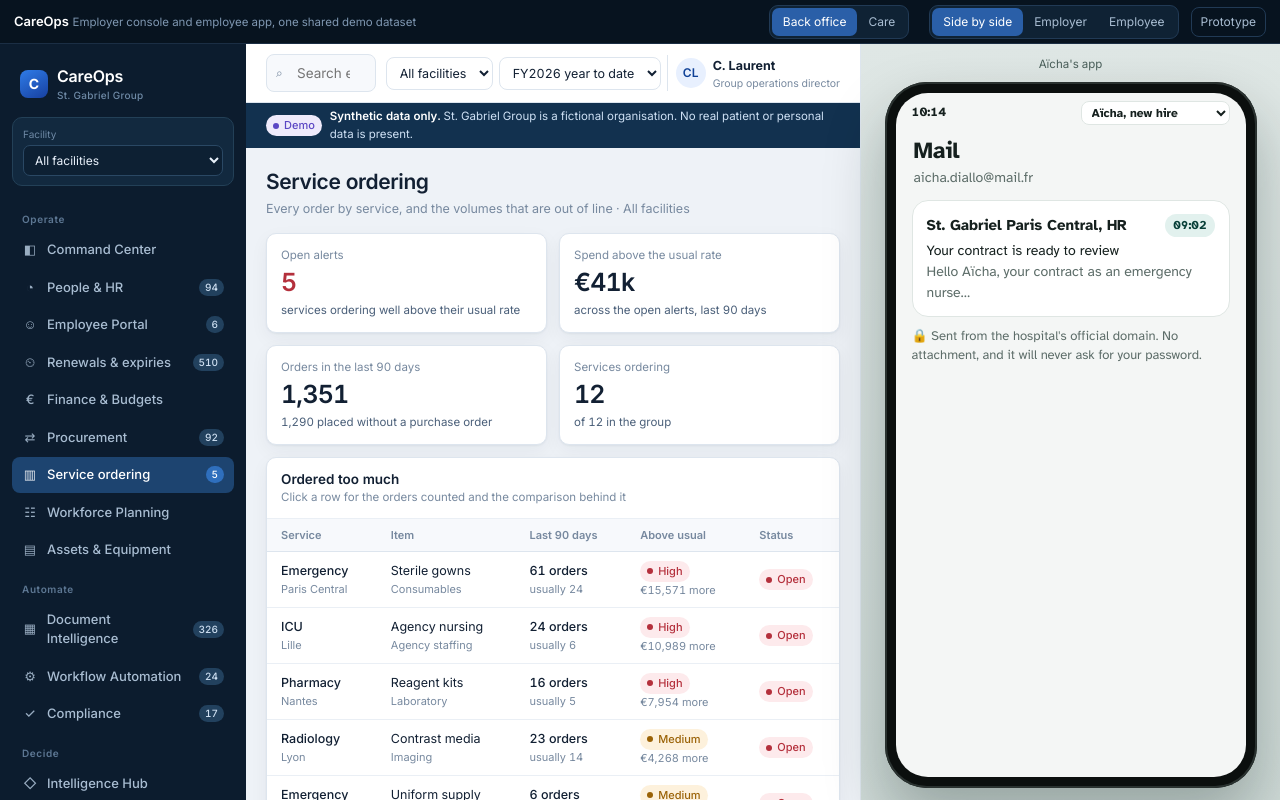
Test case: service ordering › closes an alert only with a reason chosen from the fixed list
Step 1. Click the 2nd row → (553, 580), box 267,552 -> 839,608
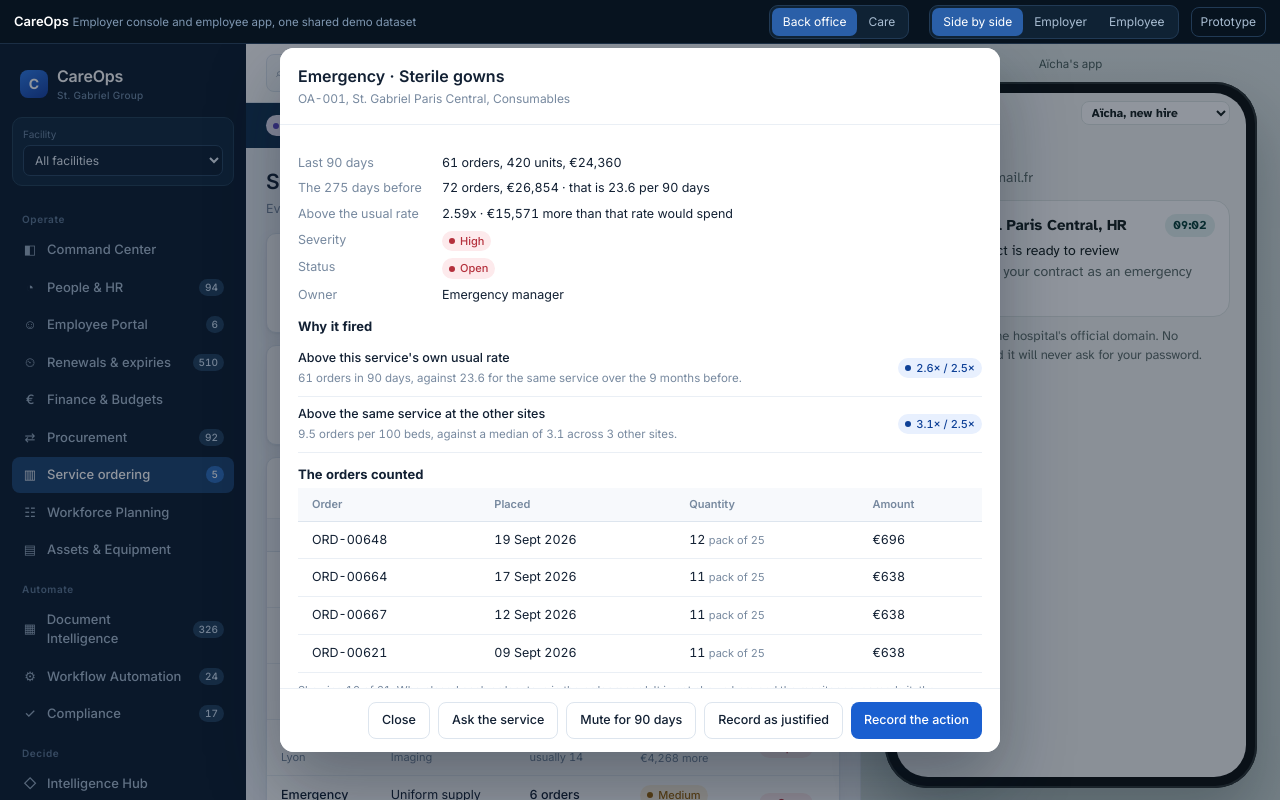
Step 2. Click the button "Record as justified" → (774, 721), box 704,702 -> 843,739
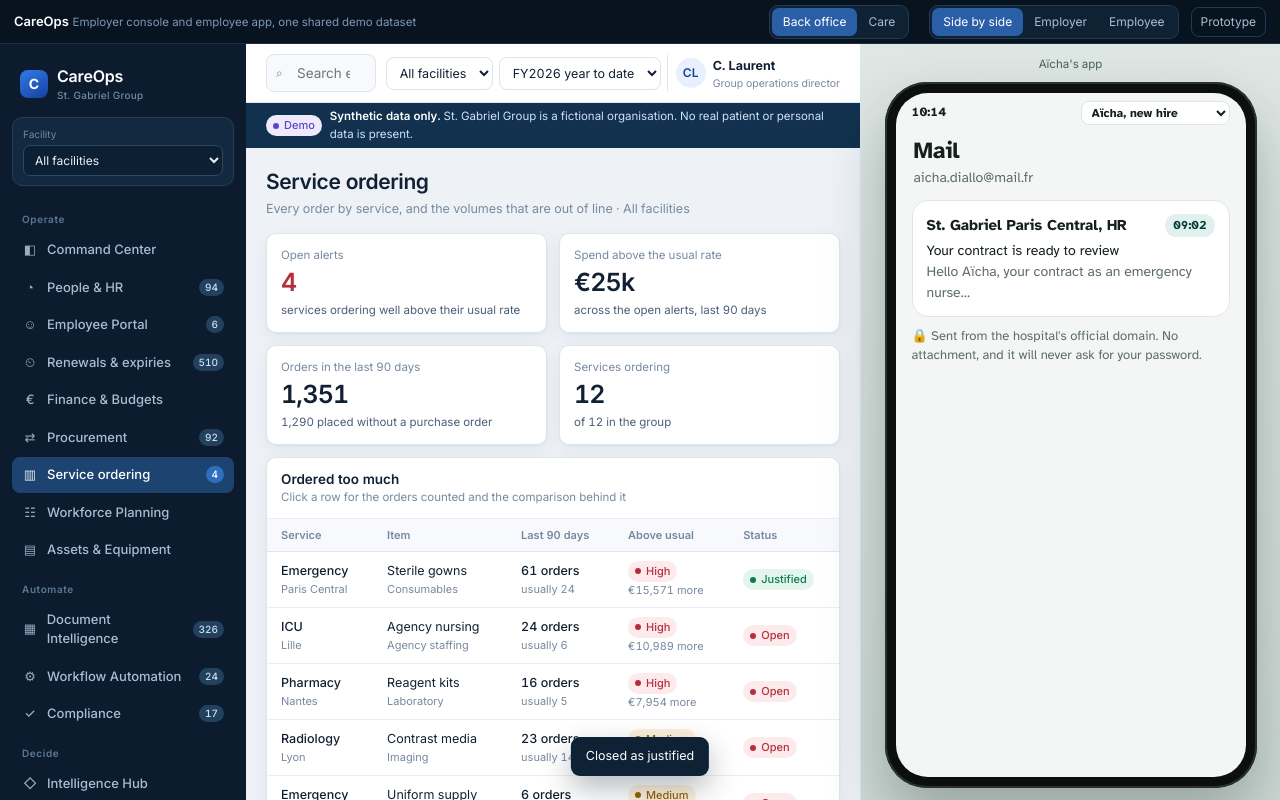
Result: the text "Closed as justified" is shown at 571,737 -> 709,776
Result: the text "Justified" is shown at 743,569 -> 814,590
